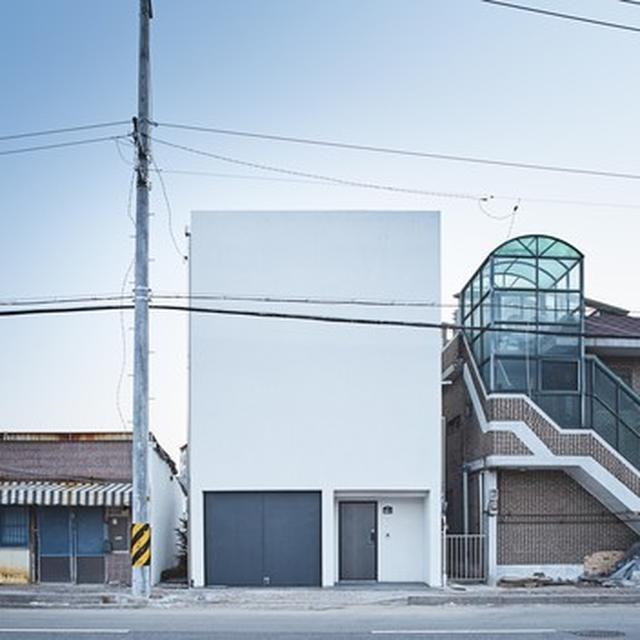building: (175, 208, 451, 586), (447, 217, 640, 571), (2, 417, 186, 588)
